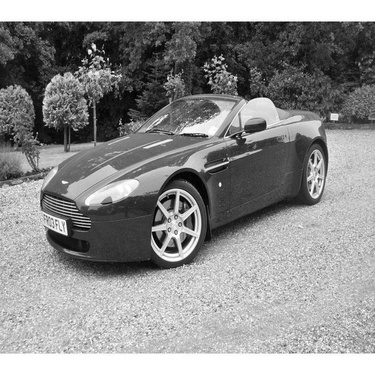car: (34, 88, 339, 275)
